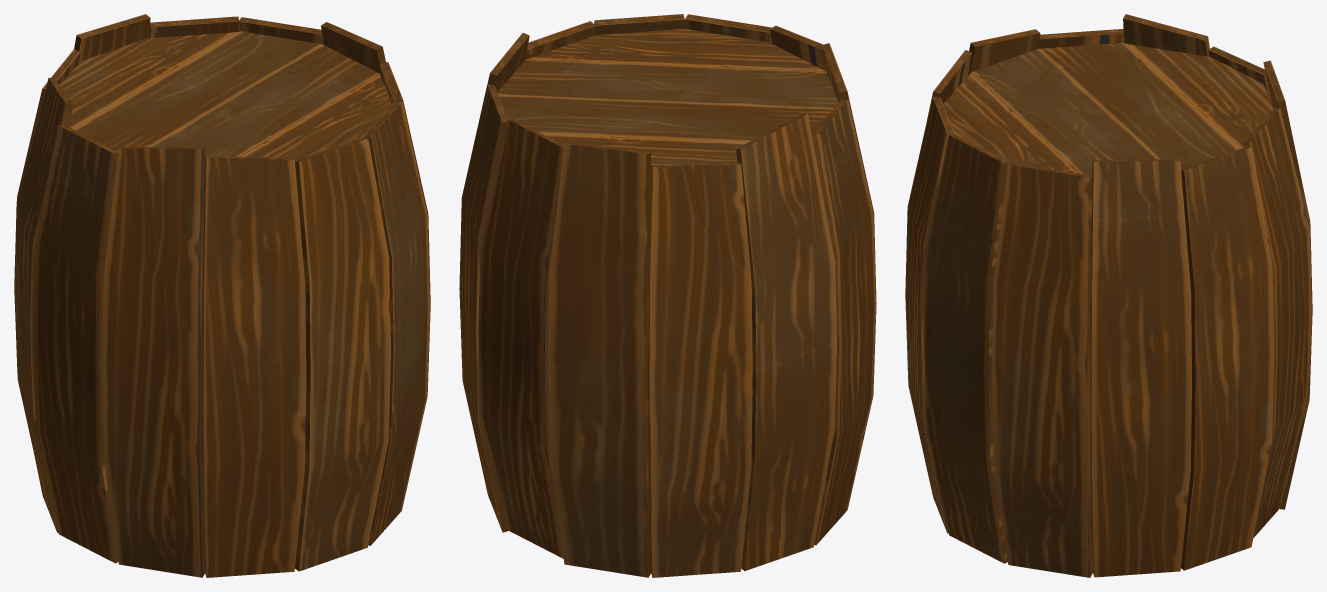
The picture shows the model from 3 angles, left to right: view 1: azimuth 30°, elevation 25°; view 2: azimuth 150°, elevation 25°; view 3: azimuth 270°, elevation 25°; orthographic projection. The views are drawn at different scales.
Visible parts, largest first — view 1: Cylinder.051; view 2: Cylinder.051; view 3: Cylinder.051.
Part boxes in pixels (left/top/right/bottom): Cylinder.051: left=14, top=14, right=430, bottom=577; Cylinder.051: left=459, top=14, right=876, bottom=577; Cylinder.051: left=905, top=14, right=1312, bottom=577.
Size of the model in its own units: 133 by 151 by 133.
1 material, 1 textured.
